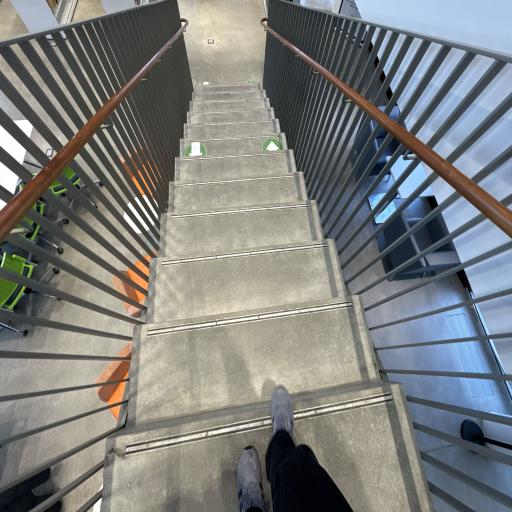Stairs: (101, 84, 433, 512)
